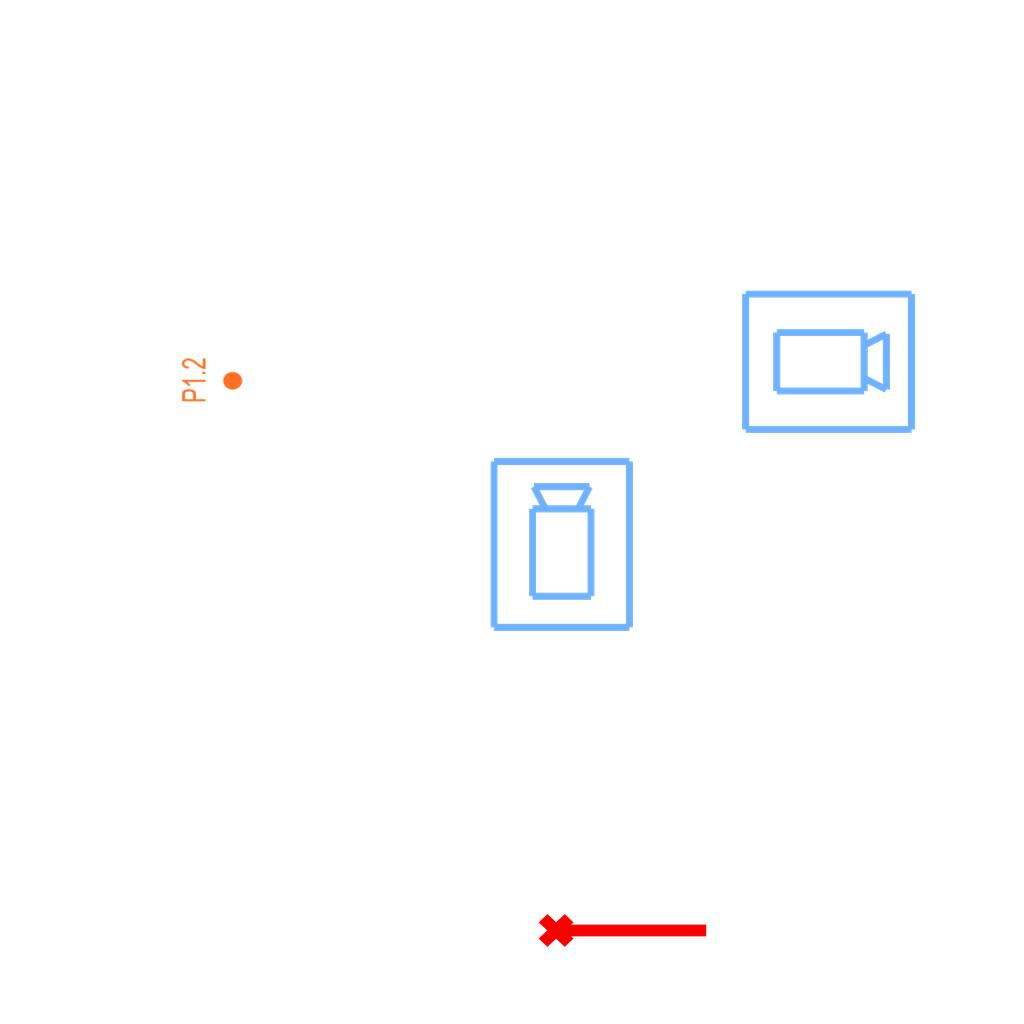ASR_Ansaugoeffnung: (536, 905, 712, 951)
Downlight_LED_Einbauleuchten_Flur: (180, 357, 244, 403)
KFO_Kamera_mit_Festobjektiv: (486, 454, 640, 636), (737, 286, 919, 440)
